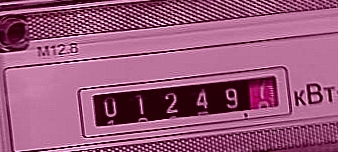0: (100, 89, 120, 115)
1: (132, 89, 148, 114)
2: (162, 87, 183, 113)
4: (194, 81, 213, 108)
7: (255, 74, 270, 98)
9: (223, 82, 242, 107)
screen: (72, 64, 306, 141)
